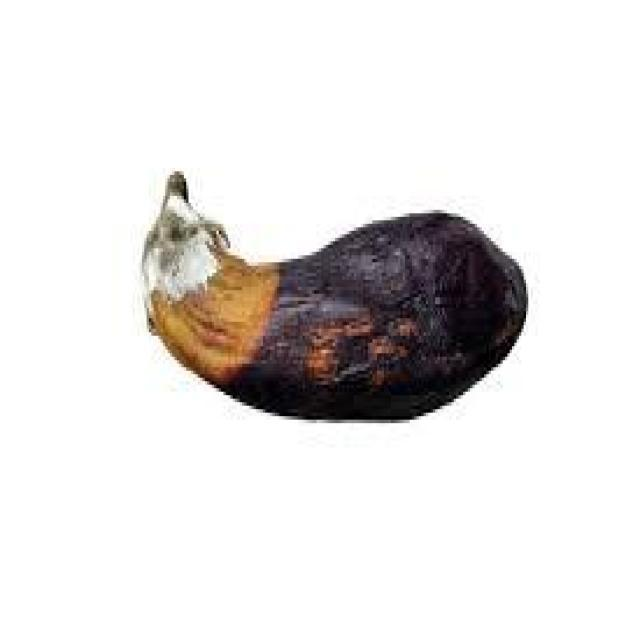eggplant: (143, 168, 526, 421)
